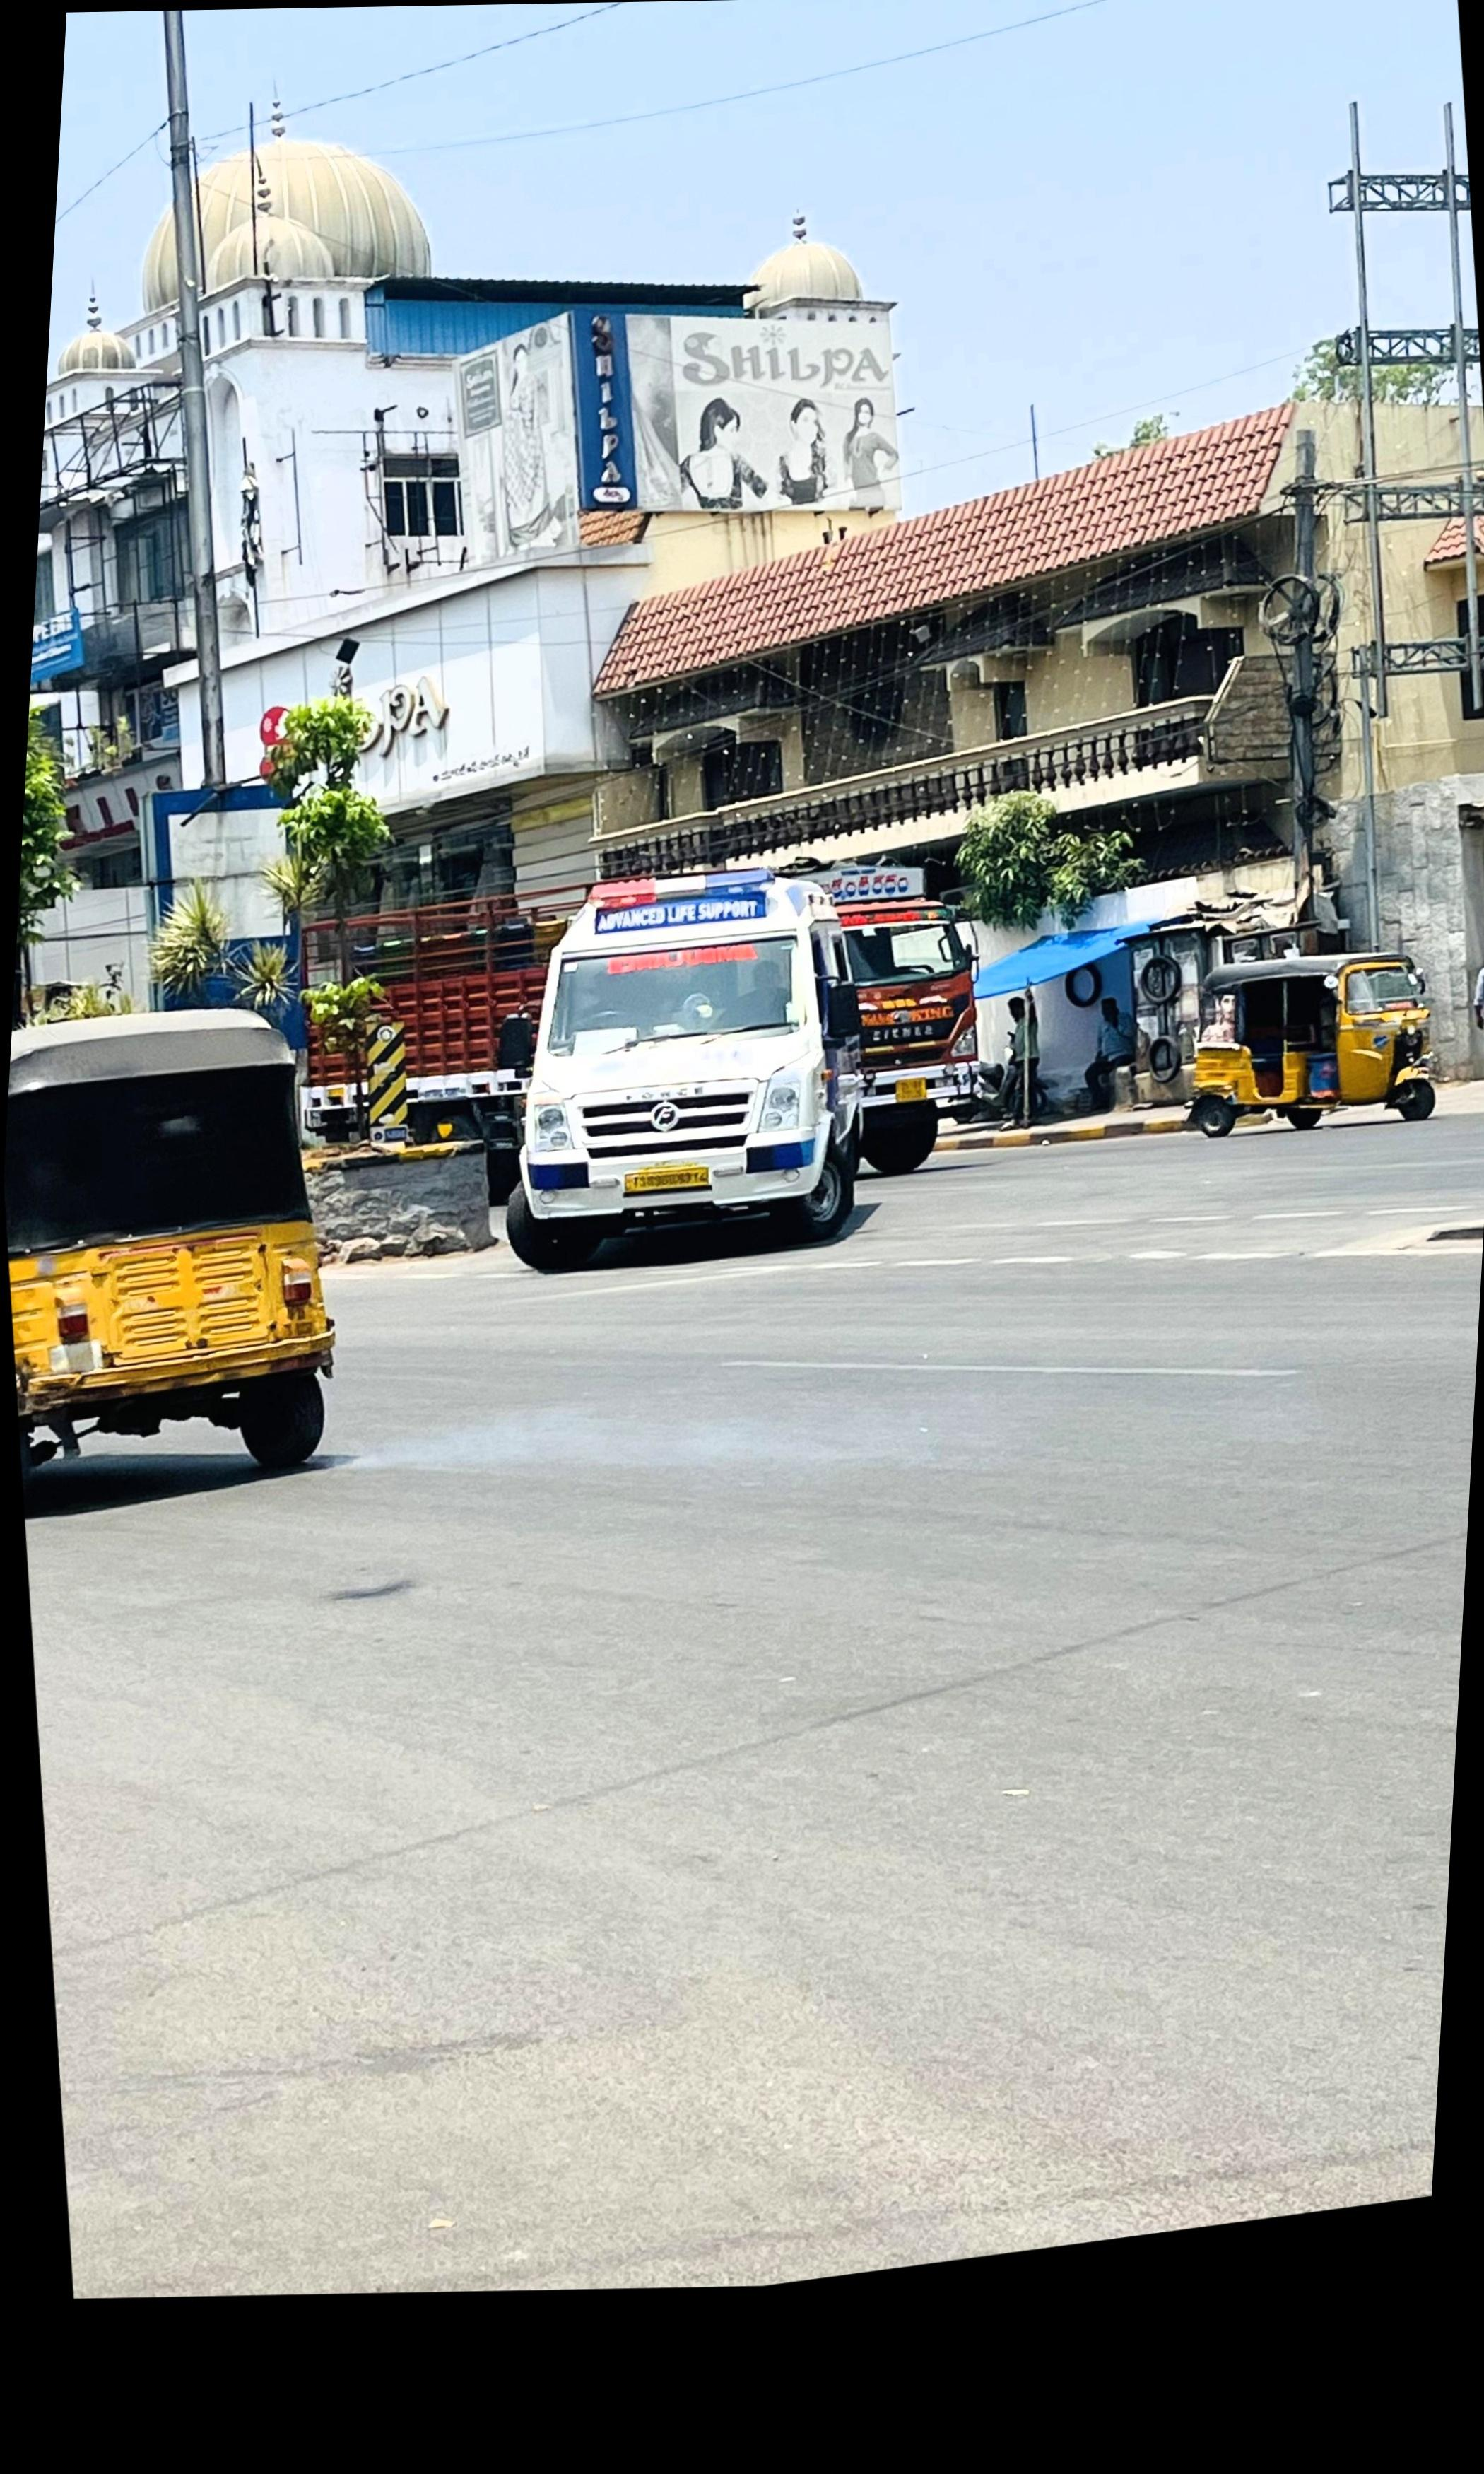ambulance: (488, 878, 883, 1271)
